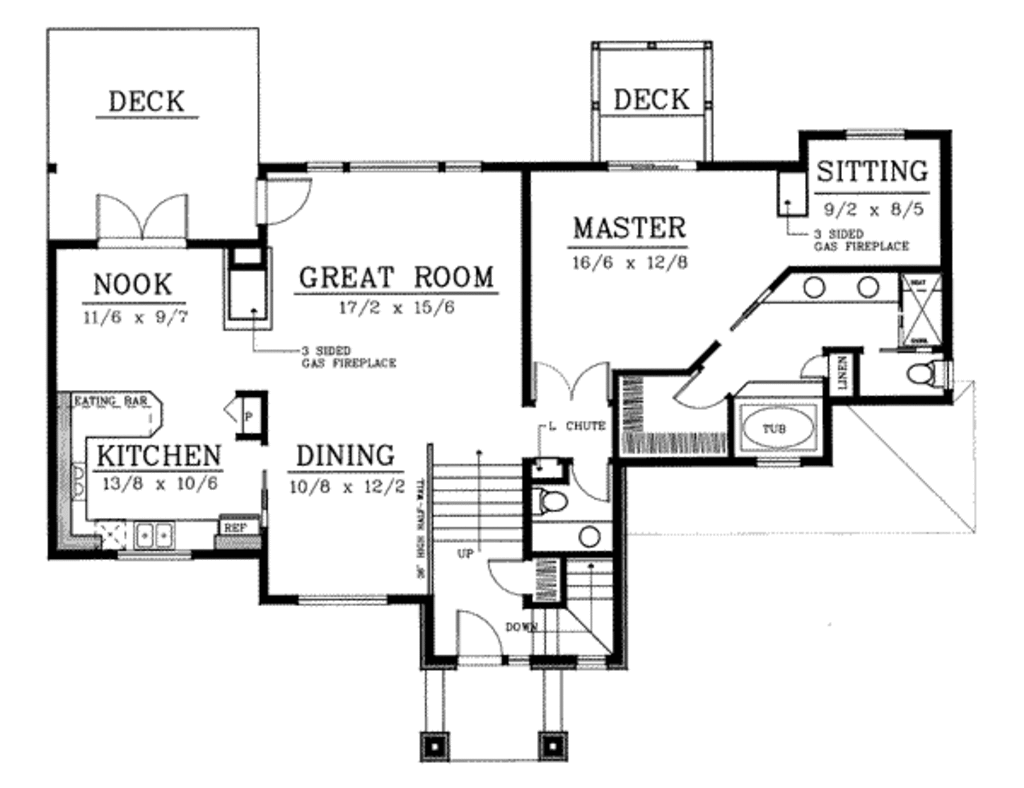door: (86, 186, 200, 252), (530, 358, 615, 408), (452, 603, 510, 671), (242, 176, 320, 225), (675, 369, 733, 410), (570, 459, 613, 507), (483, 558, 531, 598), (793, 352, 831, 376)
kitchen_bar: (52, 381, 180, 488)
large_sink: (899, 353, 959, 395), (530, 485, 577, 519)
small_sink: (782, 271, 904, 308), (567, 518, 614, 556)
stairs: (426, 446, 526, 553), (533, 551, 619, 657)
tub: (731, 395, 825, 456)
twin_sink: (122, 518, 187, 562)
window: (606, 156, 700, 174), (305, 162, 480, 171), (298, 591, 385, 609), (845, 123, 900, 141), (756, 452, 802, 469)
